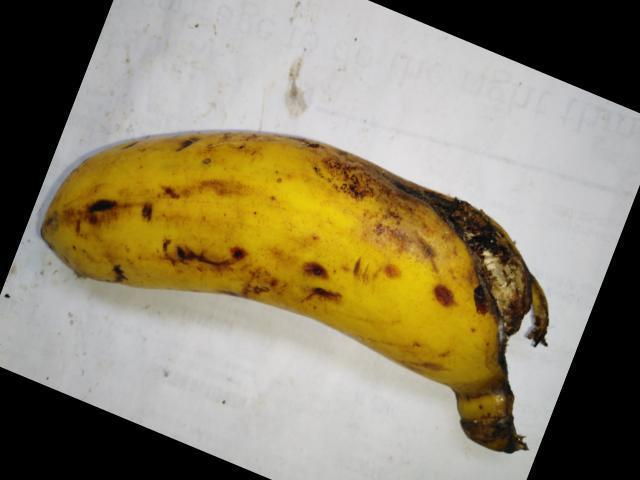ripe: (22, 117, 562, 470)
rotten: (408, 188, 546, 388)
